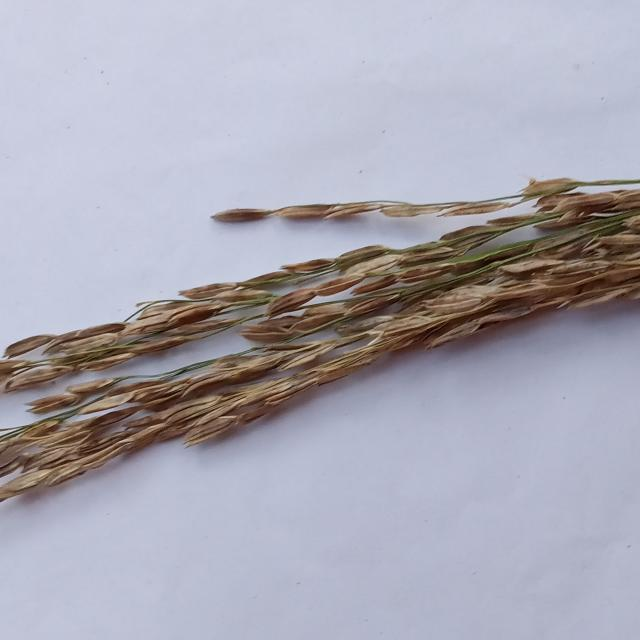Neck_Blast: (0, 224, 636, 504), (0, 225, 476, 397), (211, 180, 631, 233)
